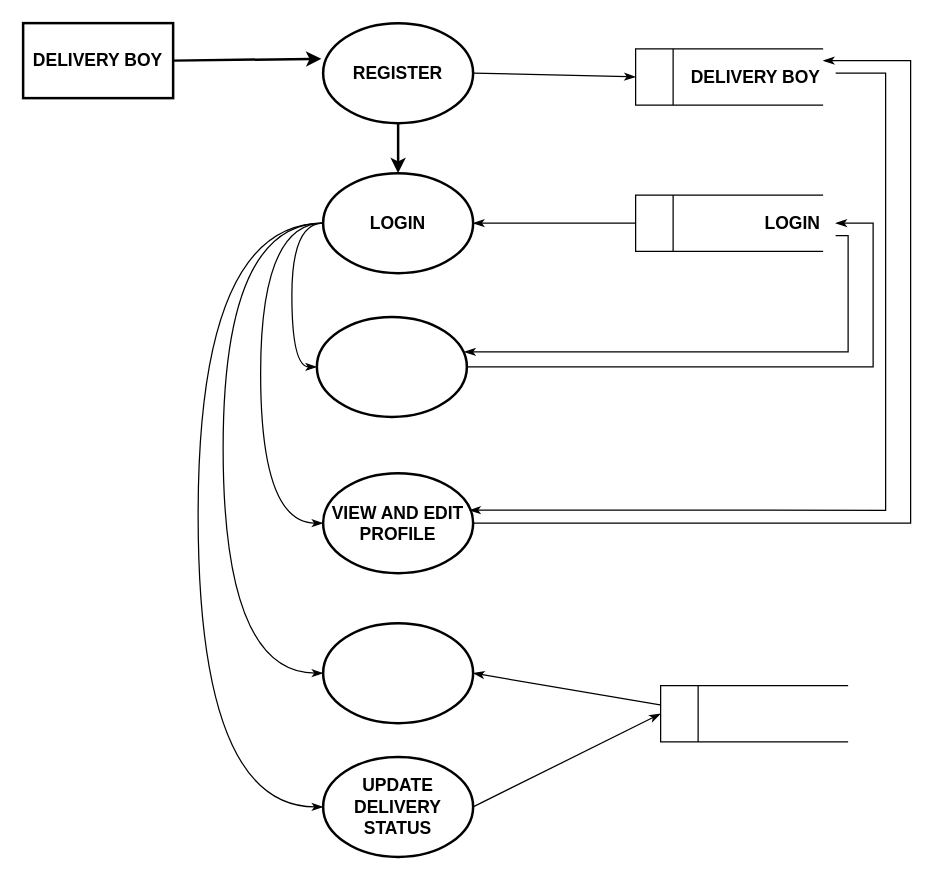
Image size: 943x879. Some labels were removed from this diagram. The shapes that lost their labels are listed below. From the top down, each one's box as (x1, y1, x2, y2) in pixels, then its label:
(315, 315, 468, 418): CHANGE PASSWORD
(321, 621, 474, 724): VIEW ALLOCATED ORDERS
(659, 684, 848, 742): ASSIGN ORDER
